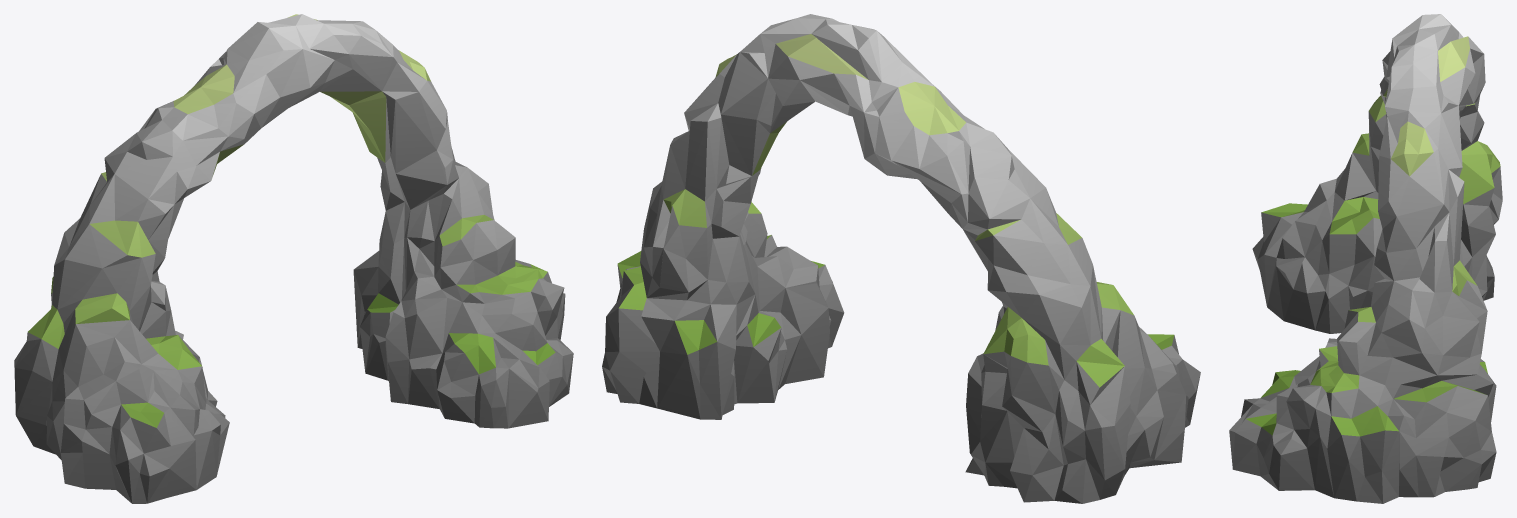
File: mountain-arch.glb
3 renders of one model, left to right at view 1: azimuth 30°, elevation 25°; view 2: azimuth 150°, elevation 25°; view 3: azimuth 270°, elevation 25°, orthographic. The views are drawn at different scales.
Visible parts, largest first — view 1: mountain arch; view 2: mountain arch; view 3: mountain arch.
Part boxes in pixels (left/top/right/bottom): mountain arch: left=14, top=14, right=573, bottom=503; mountain arch: left=602, top=14, right=1200, bottom=503; mountain arch: left=1229, top=14, right=1502, bottom=503.
Size of the model in its own units: 40.28 by 28.08 by 19.04.
Materials: 1 (1 with a texture image).
